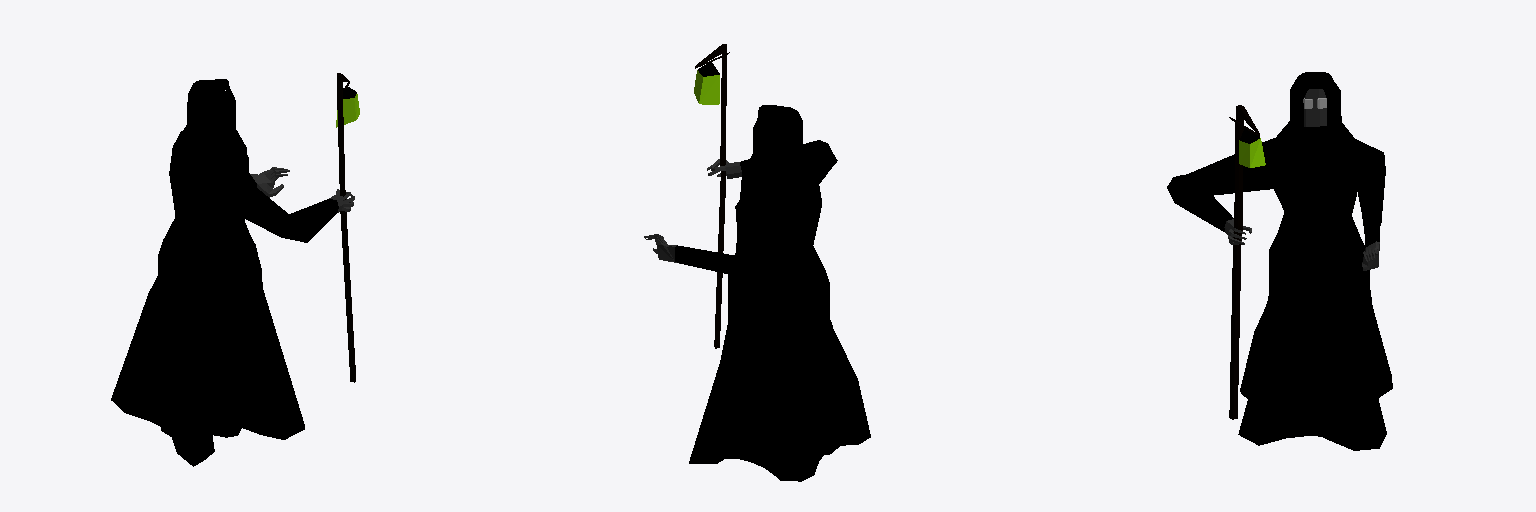
Rendered from GhostBasicModel.obj.
The picture shows the model from 3 angles: view 1: azimuth 30°, elevation 25°; view 2: azimuth 150°, elevation 25°; view 3: azimuth 270°, elevation 25°; orthographic projection.
Parts seen in each view (by area): view 1: Cube_Cube.002; view 2: Cube_Cube.002; view 3: Cube_Cube.002.
Part boxes in pixels (x1,y1,x2,y2): Cube_Cube.002: (111,73,359,466); Cube_Cube.002: (644,44,870,481); Cube_Cube.002: (1167,72,1392,450).
Bounding box in the file's own units: 4.07 × 7.87 × 4.46.